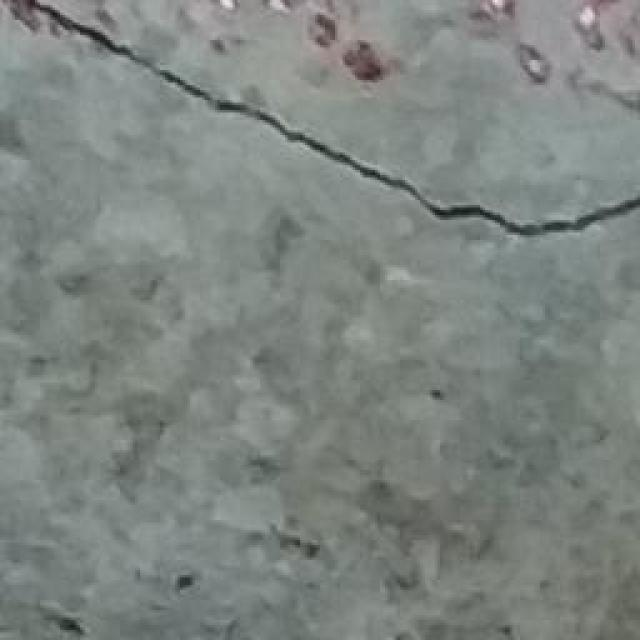Diagonal: (12, 0, 640, 259)
